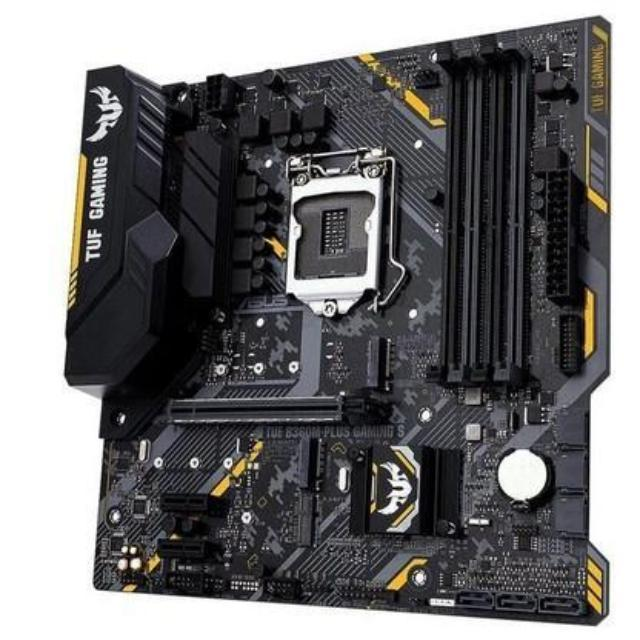Mainboard: (49, 10, 623, 636)
